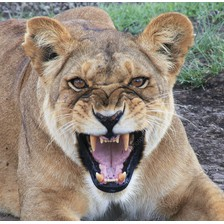lion: (0, 9, 224, 224)
